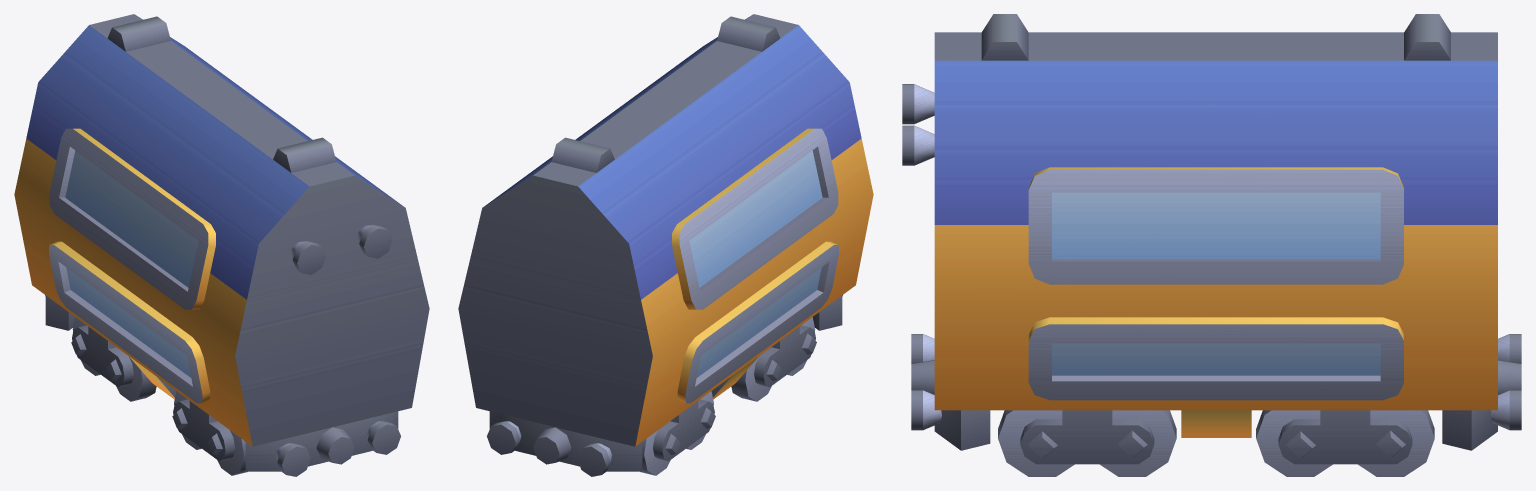
Rendered from train-electric-double-c.glb.
3 renders of one model, left to right at view 1: azimuth 30°, elevation 25°; view 2: azimuth 150°, elevation 25°; view 3: azimuth 270°, elevation 25°, orthographic. The views are drawn at different scales.
Visible parts, largest first — view 1: train-electric-double-c, wheels-back, wheels-front; view 2: train-electric-double-c, wheels-front, wheels-back; view 3: train-electric-double-c, wheels-back, wheels-front.
Boxes of the visible parts, x1,y1,x2,y2 form: train-electric-double-c: (14, 14, 429, 476); wheels-back: (71, 317, 156, 401); wheels-front: (172, 391, 247, 475); train-electric-double-c: (458, 14, 873, 476); wheels-front: (731, 317, 816, 401); wheels-back: (640, 391, 715, 475); train-electric-double-c: (902, 14, 1521, 450); wheels-back: (1256, 410, 1434, 476); wheels-front: (998, 410, 1176, 476).
Size of the model in its own units: 1.29 by 1.92 by 2.64.
Materials: 1 (1 with a texture image).
